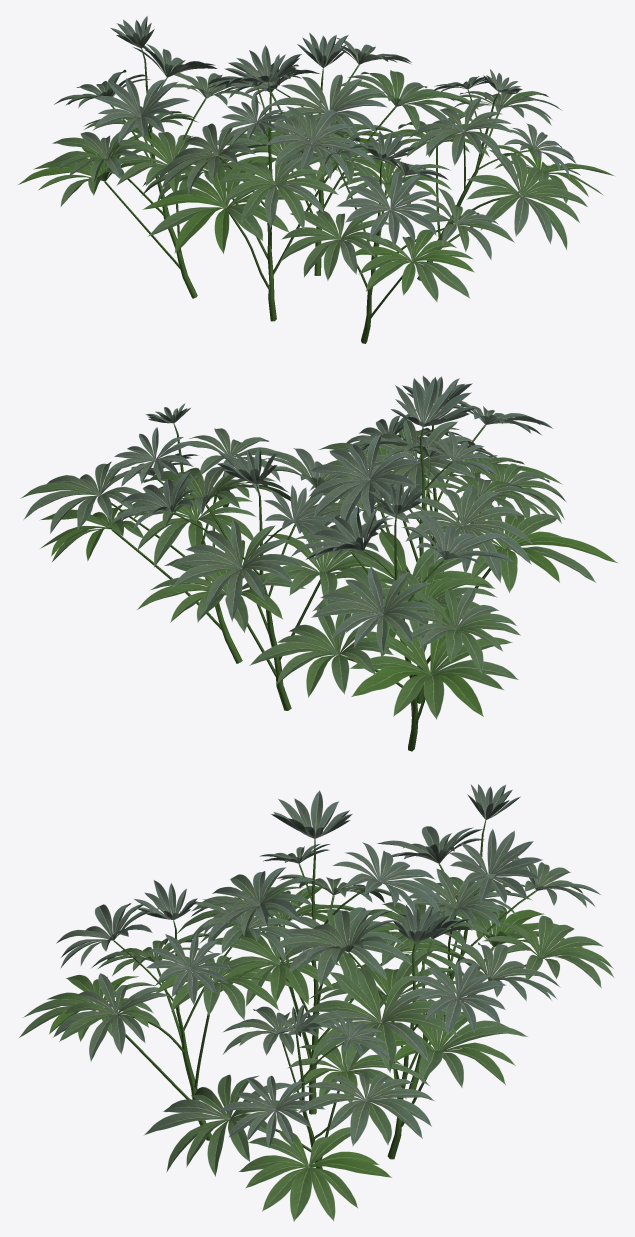
3 renders of one model, top to bottom at view 1: azimuth 30°, elevation 25°; view 2: azimuth 150°, elevation 25°; view 3: azimuth 270°, elevation 25°, orthographic. The views are drawn at different scales.
Visible parts, largest first — view 1: Lupinus_polyphyllus_HD; view 2: Lupinus_polyphyllus_HD; view 3: Lupinus_polyphyllus_HD.
Boxes of the visible parts, x1,y1,x2,y2 form: Lupinus_polyphyllus_HD: (18,16,615,343); Lupinus_polyphyllus_HD: (20,376,618,751); Lupinus_polyphyllus_HD: (18,784,614,1221).
Bounding box in the file's own units: 0.7159 × 0.3732 × 0.6622.
Materials: 11 (11 with a texture image).
